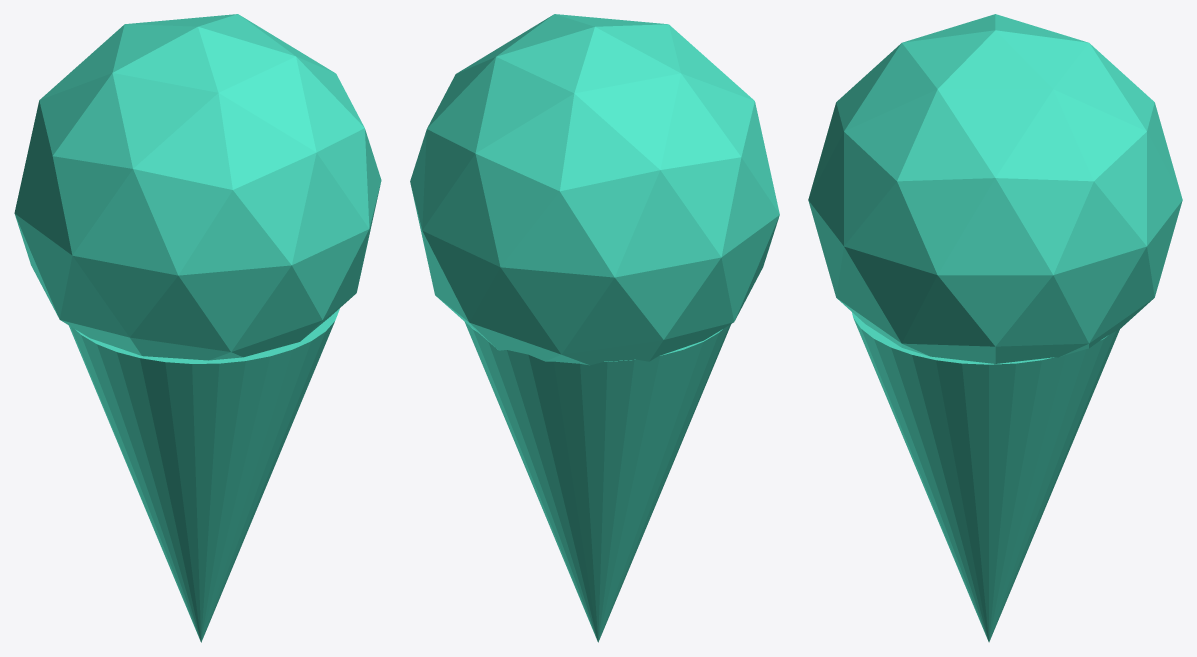
The model's file is pin-skyblue.glb.
The picture shows the model from 3 angles, left to right: view 1: azimuth 30°, elevation 25°; view 2: azimuth 150°, elevation 25°; view 3: azimuth 270°, elevation 25°; orthographic projection.
Parts seen in each view (by area): view 1: Icosphere, Cone; view 2: Icosphere, Cone; view 3: Icosphere, Cone.
Part boxes in pixels (x1=…): Icosphere: x1=14, y1=14, x2=381, y2=360; Cone: x1=69, y1=309, x2=339, y2=642; Icosphere: x1=410, y1=14, x2=779, y2=365; Cone: x1=465, y1=322, x2=731, y2=642; Icosphere: x1=808, y1=14, x2=1182, y2=363; Cone: x1=852, y1=312, x2=1119, y2=642.
Bounding box in the file's own units: 0.0881 × 0.1673 × 0.0927.
